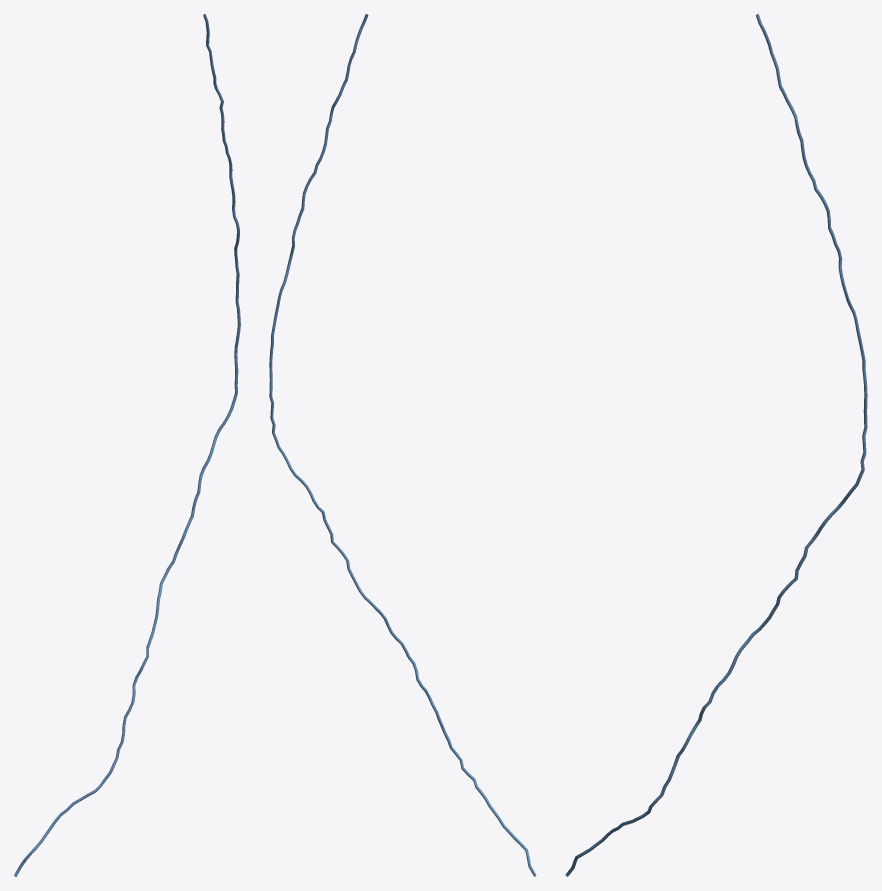
File: sweep98.fbx
3 renders of one model, left to right at view 1: azimuth 30°, elevation 25°; view 2: azimuth 150°, elevation 25°; view 3: azimuth 330°, elevation 25°, orthographic. The views are drawn at different scales.
Visible parts, largest first — view 1: sweep98; view 2: sweep98; view 3: sweep98.
Boxes of the visible parts, bbox=[...] form: sweep98: bbox=[14, 14, 240, 876]; sweep98: bbox=[269, 14, 536, 876]; sweep98: bbox=[565, 14, 867, 876].
Bounding box in the file's own units: 1.84 × 5.82 × 0.4513.
